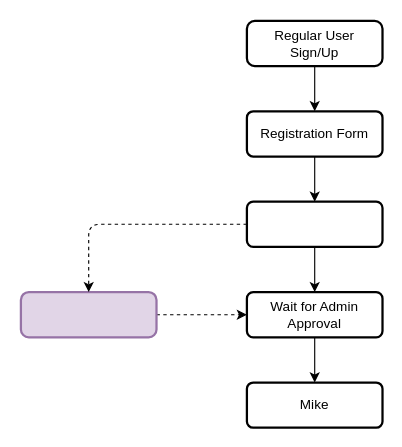
This 402x447 diagram has some shape labels left out. The shapes that lost their labels are listed below. From the top down, each one's centre as x and y in pixels, then its label:
the point at 314,223: Create Company Request
the point at 88,314: Admin Aproval
